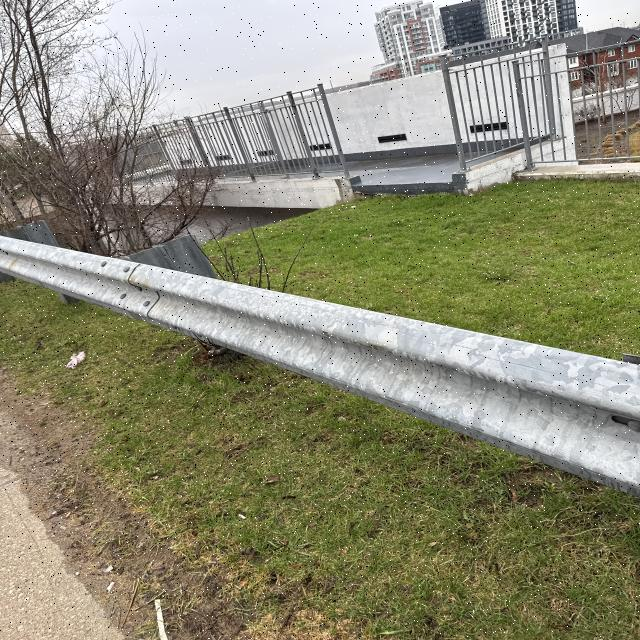Guard rail: (4, 249, 628, 434)
